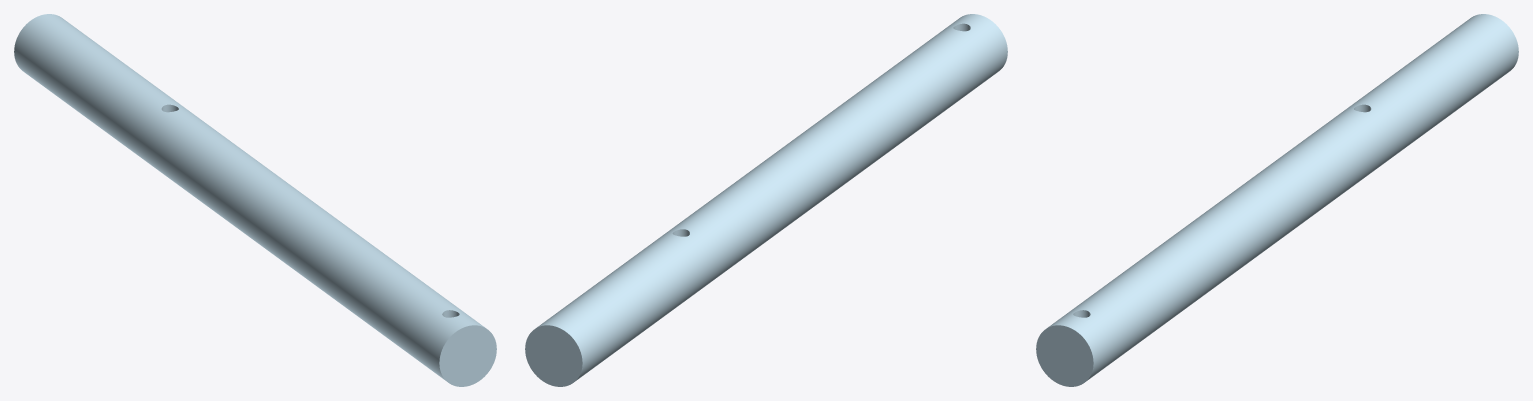
Rendered from GearRod1.gltf.
3 views of the same model, side by side, from view 1: azimuth 30°, elevation 25°; view 2: azimuth 150°, elevation 25°; view 3: azimuth 330°, elevation 25° (orthographic).
Visible parts, largest first — view 1: Part 1; view 2: Part 1; view 3: Part 1.
Part boxes in pixels (left/top/right/bottom): Part 1: left=14, top=14, right=496, bottom=386; Part 1: left=525, top=14, right=1007, bottom=386; Part 1: left=1036, top=14, right=1518, bottom=386.
Bounding box in the file's own units: 0.0195 × 0.0195 × 0.25.
